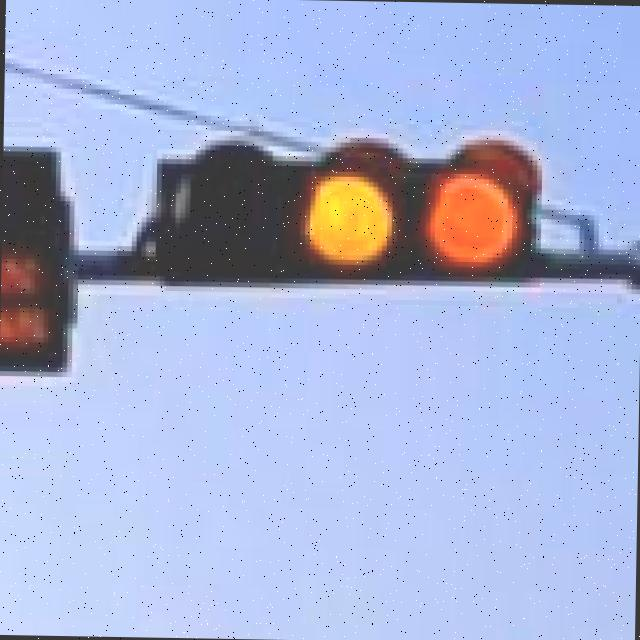Zolte swiatlo: (155, 129, 542, 293)
